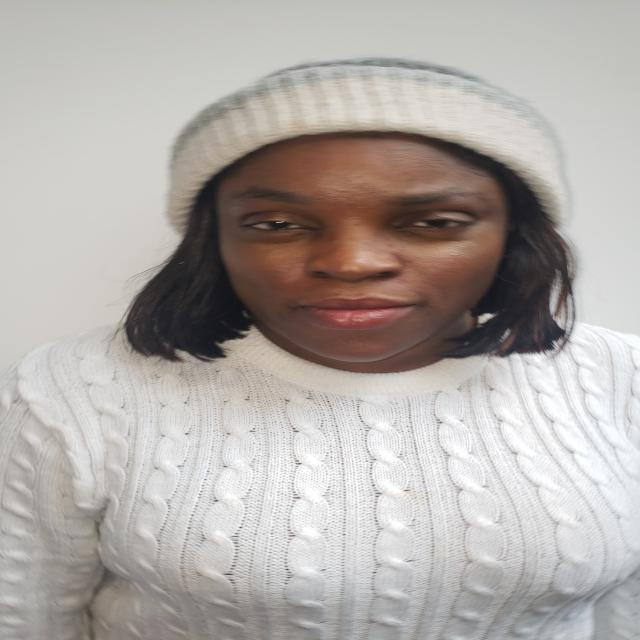sad: (169, 84, 525, 373)
